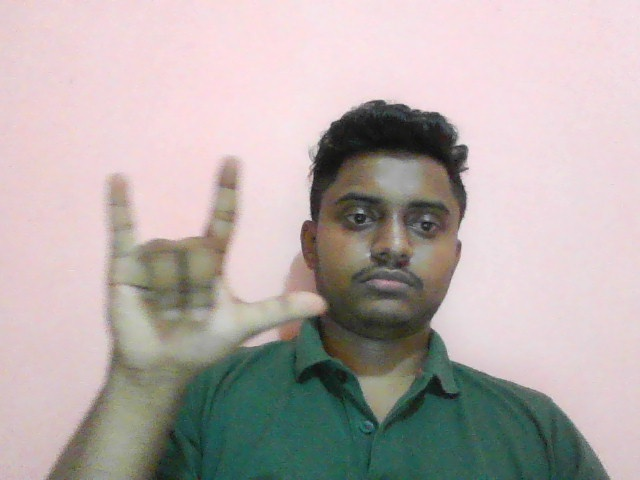I Love You: (89, 145, 334, 377)
